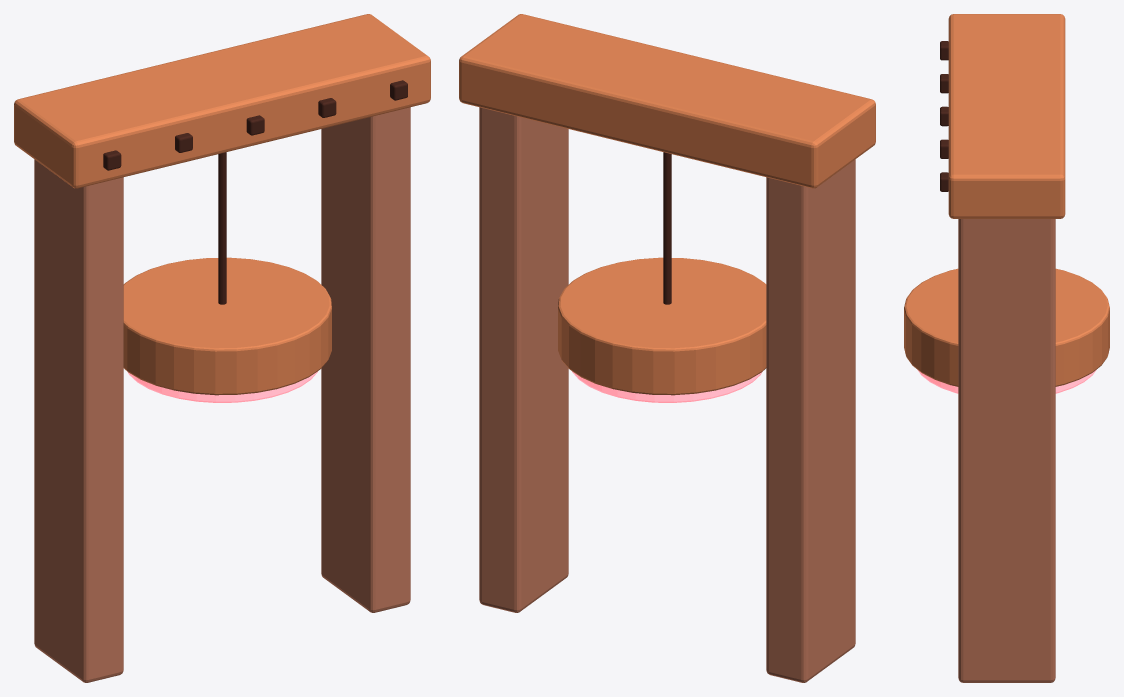
File: SM_SalvageGantry.fbx
The picture shows the model from 3 angles, left to right: view 1: azimuth 30°, elevation 25°; view 2: azimuth 150°, elevation 25°; view 3: azimuth 270°, elevation 25°; orthographic projection. The views are drawn at different scales.
Parts seen in each view (by area): view 1: SM_SalvageGantry; view 2: SM_SalvageGantry; view 3: SM_SalvageGantry.
Part boxes in pixels (x1,y1,x2,y2): SM_SalvageGantry: [14, 14, 430, 682]; SM_SalvageGantry: [459, 14, 875, 682]; SM_SalvageGantry: [904, 14, 1109, 682].
Bounding box in the file's own units: 200 × 106 × 292.
